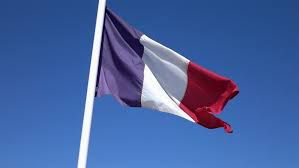French Flag: (98, 7, 235, 132)
